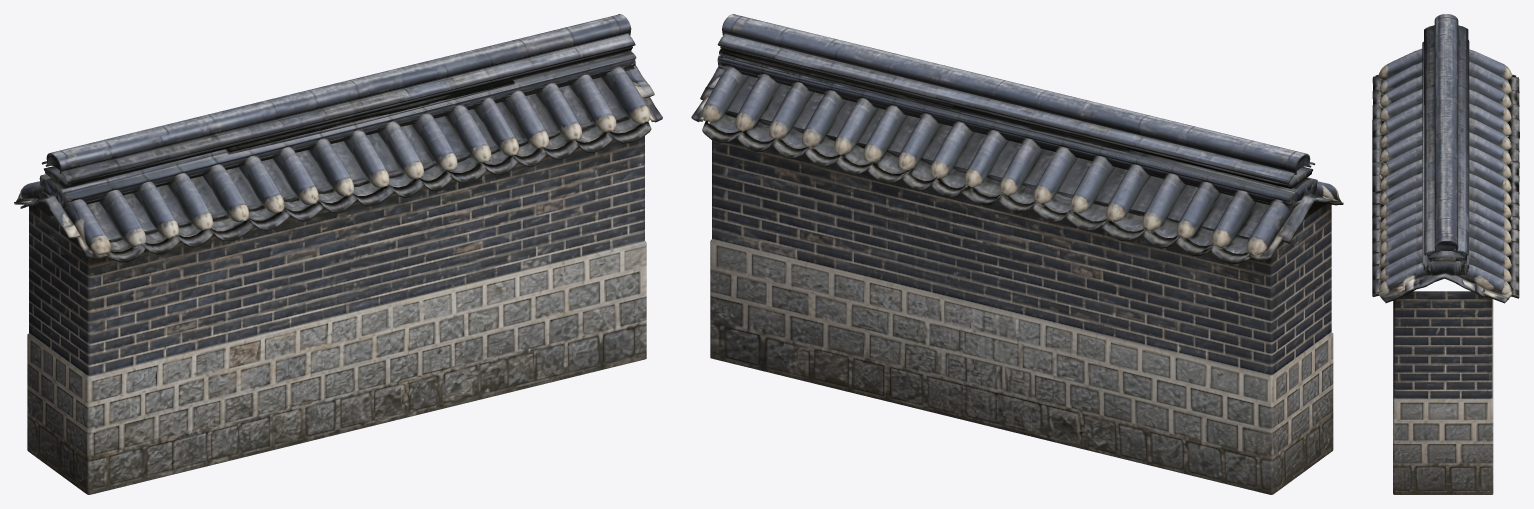
File: wall.glb
The picture shows the model from 3 angles, left to right: view 1: azimuth 30°, elevation 25°; view 2: azimuth 150°, elevation 25°; view 3: azimuth 270°, elevation 25°; orthographic projection. The views are drawn at different scales.
Parts seen in each view (by area): view 1: tripo_node_dbd1d23f-ee8e-4d9a-984a-b992ebbb23b6; view 2: tripo_node_dbd1d23f-ee8e-4d9a-984a-b992ebbb23b6; view 3: tripo_node_dbd1d23f-ee8e-4d9a-984a-b992ebbb23b6.
Boxes of the visible parts, x1,y1,x2,y2 form: tripo_node_dbd1d23f-ee8e-4d9a-984a-b992ebbb23b6: (14,14,662,494); tripo_node_dbd1d23f-ee8e-4d9a-984a-b992ebbb23b6: (691,14,1343,494); tripo_node_dbd1d23f-ee8e-4d9a-984a-b992ebbb23b6: (1372,14,1519,494).
Size of the model in its own units: 0.9995 by 0.5171 by 0.2681.
Materials: 1 (1 with a texture image).
